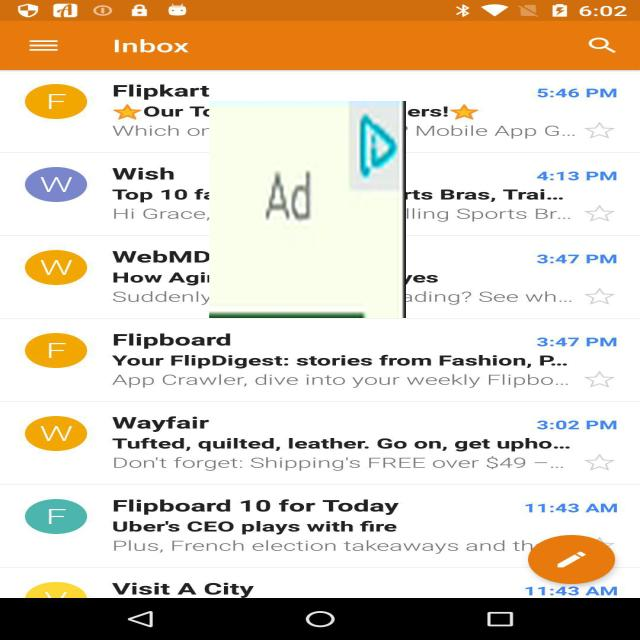sneaking: (209, 101, 406, 318)
